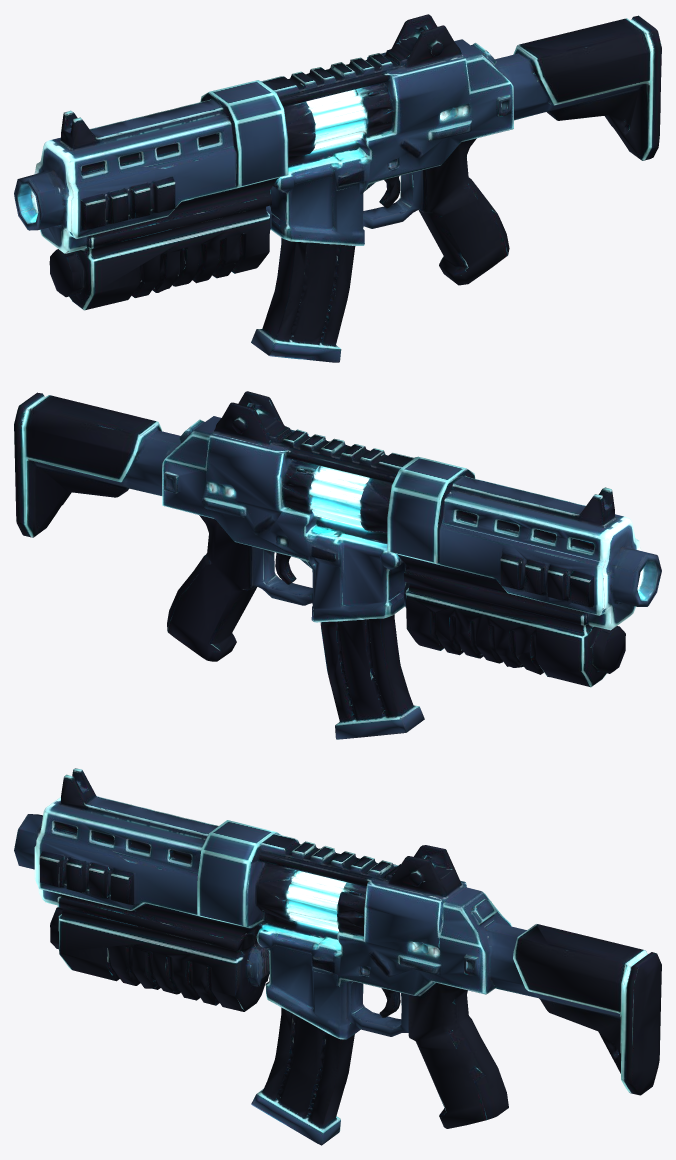
The model's file is rifle.glb.
3 views of the same model, one above another, from view 1: azimuth 30°, elevation 25°; view 2: azimuth 150°, elevation 25°; view 3: azimuth 330°, elevation 25° (orthographic).
Parts seen in each view (by area): view 1: Mesh_0; view 2: Mesh_0; view 3: Mesh_0.
Boxes of the visible parts, x1,y1,x2,y2 form: Mesh_0: [14, 14, 661, 362]; Mesh_0: [14, 391, 661, 739]; Mesh_0: [14, 768, 661, 1145].
Size of the model in its own units: 1.91 by 0.905 by 0.2521.
1 material, 1 textured.
